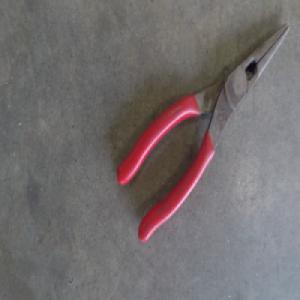Pliers: (113, 23, 285, 241)
